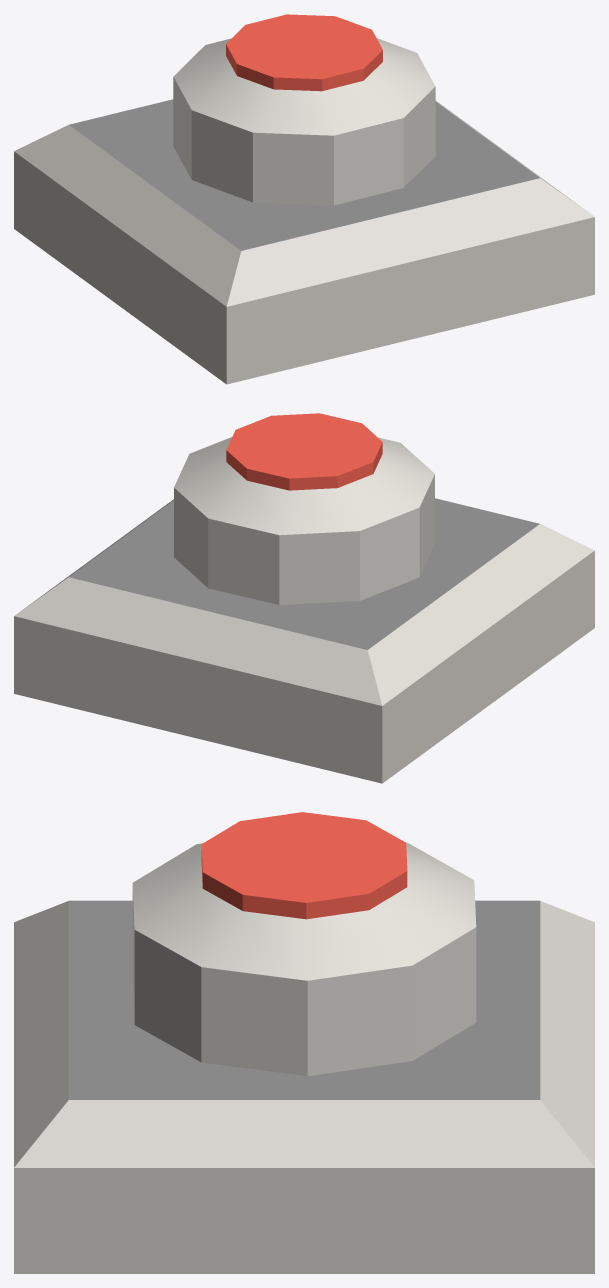
The model's file is 04 Light_box.FBX.
The picture shows the model from 3 angles, top to bottom: view 1: azimuth 30°, elevation 25°; view 2: azimuth 150°, elevation 25°; view 3: azimuth 270°, elevation 25°; orthographic projection. The views are drawn at different scales.
Visible parts, largest first — view 1: Box015; view 2: Box015; view 3: Box015.
Part boxes in pixels (x1=…): Box015: x1=14, y1=14, x2=594, y2=384; Box015: x1=14, y1=413, x2=594, y2=783; Box015: x1=14, y1=812, x2=594, y2=1273.
Size of the model in its own units: 848 by 473 by 848.
